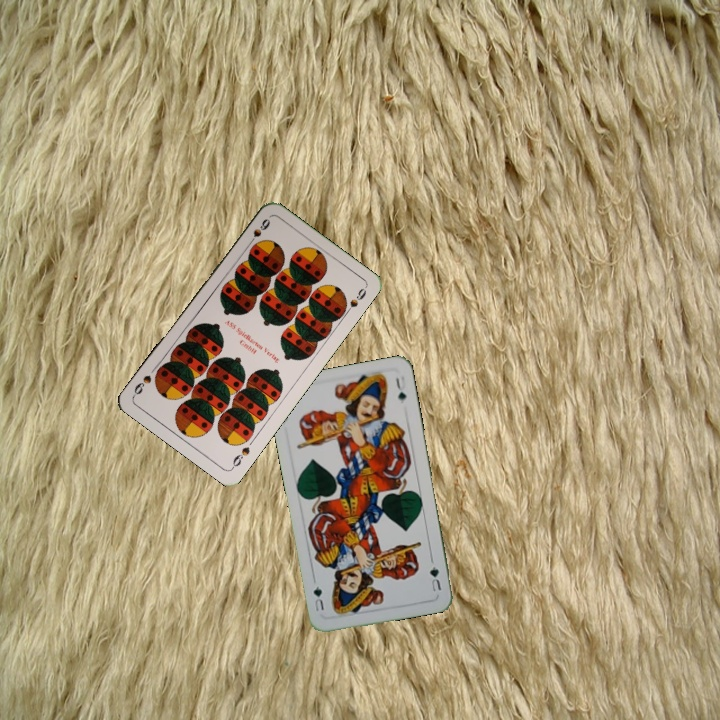GU: (426, 562, 444, 594)
S9: (243, 214, 273, 249), (228, 443, 253, 472)
